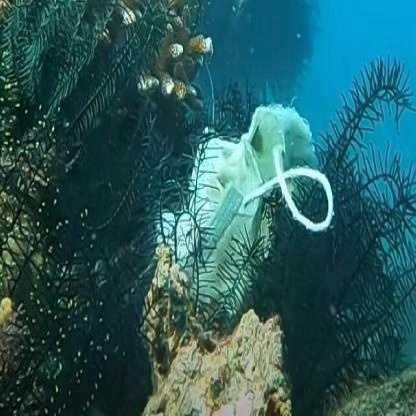Mask: (152, 105, 334, 336)
